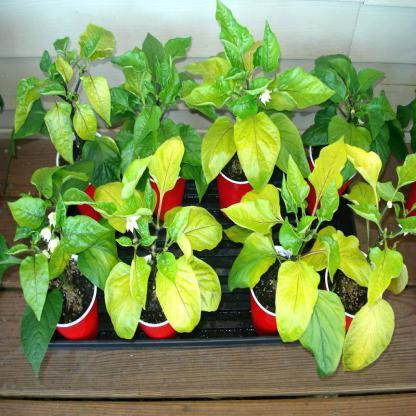Bell_pepper leaf spot: (276, 255, 321, 352), (230, 112, 278, 192), (102, 258, 147, 342), (158, 259, 204, 337), (348, 301, 396, 374), (170, 202, 224, 251), (148, 133, 190, 193), (308, 139, 346, 201), (367, 238, 405, 300), (342, 140, 382, 194), (203, 115, 234, 180), (85, 74, 114, 132)
